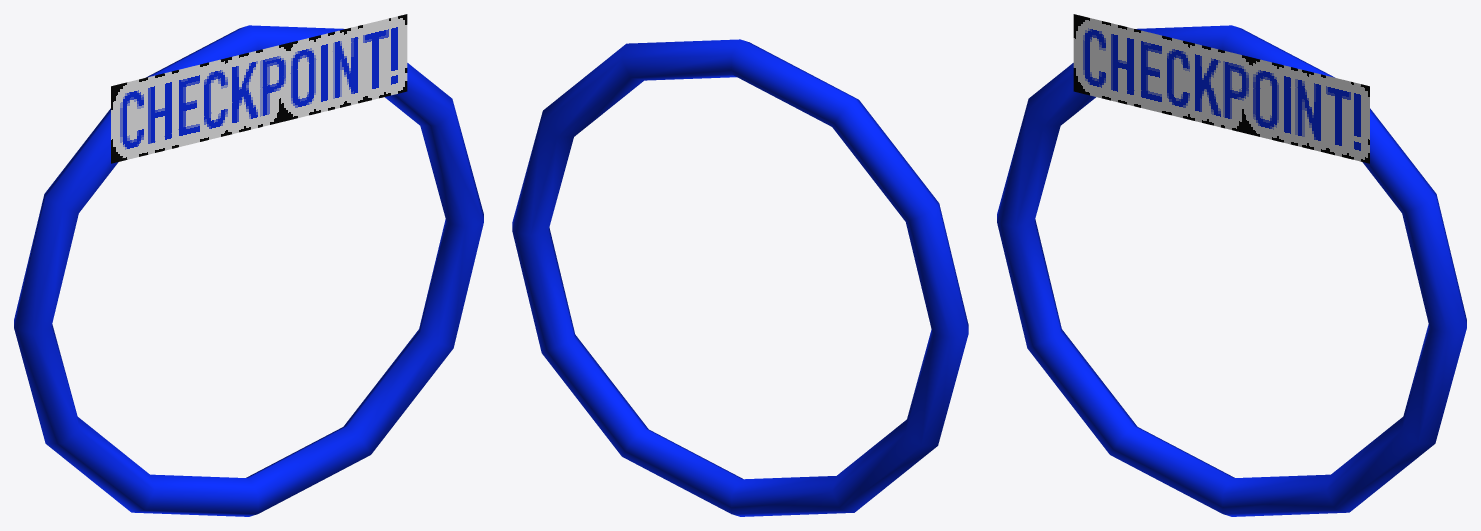
The model's file is yargcheckpoint.glb.
The picture shows the model from 3 angles, left to right: view 1: azimuth 30°, elevation 25°; view 2: azimuth 150°, elevation 25°; view 3: azimuth 330°, elevation 25°; orthographic projection. The views are drawn at different scales.
Visible parts, largest first — view 1: Torus, Plane; view 2: Torus; view 3: Torus, Plane.
Part boxes in pixels (bbox=[...]): Torus: bbox=[14, 25, 483, 516]; Plane: bbox=[111, 14, 407, 163]; Torus: bbox=[512, 39, 968, 516]; Torus: bbox=[997, 25, 1466, 516]; Plane: bbox=[1073, 14, 1369, 163].
Size of the model in its own units: 6.34 by 6.34 by 0.4528.
Materials: 1 (1 with a texture image).
